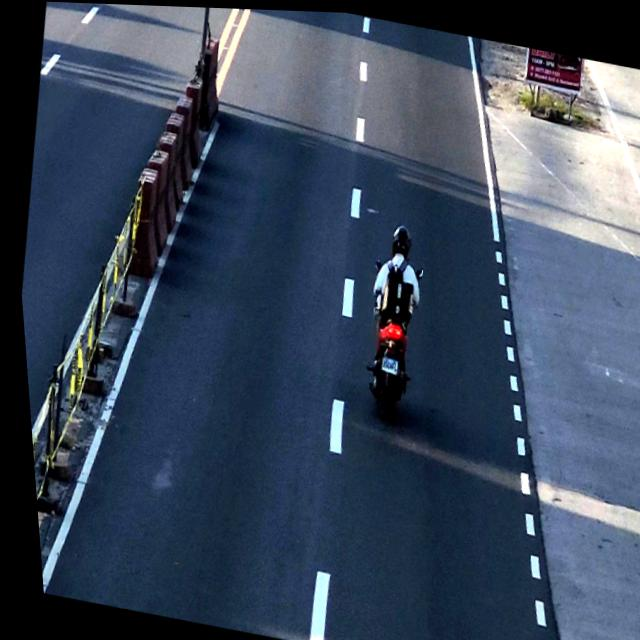License-Plate: (371, 352, 398, 376)
Motorcycle: (345, 219, 429, 418)
